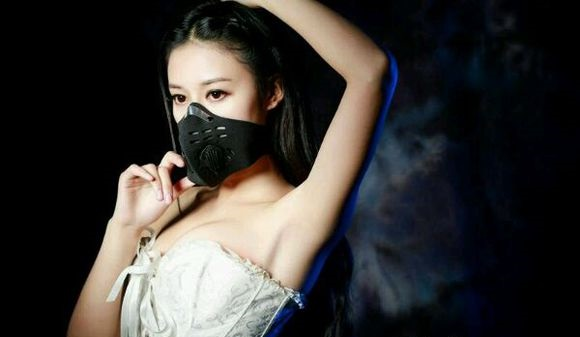face_mask: (168, 43, 264, 167)
